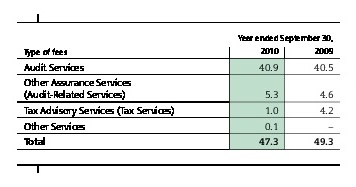table: (0, 0, 356, 187)
